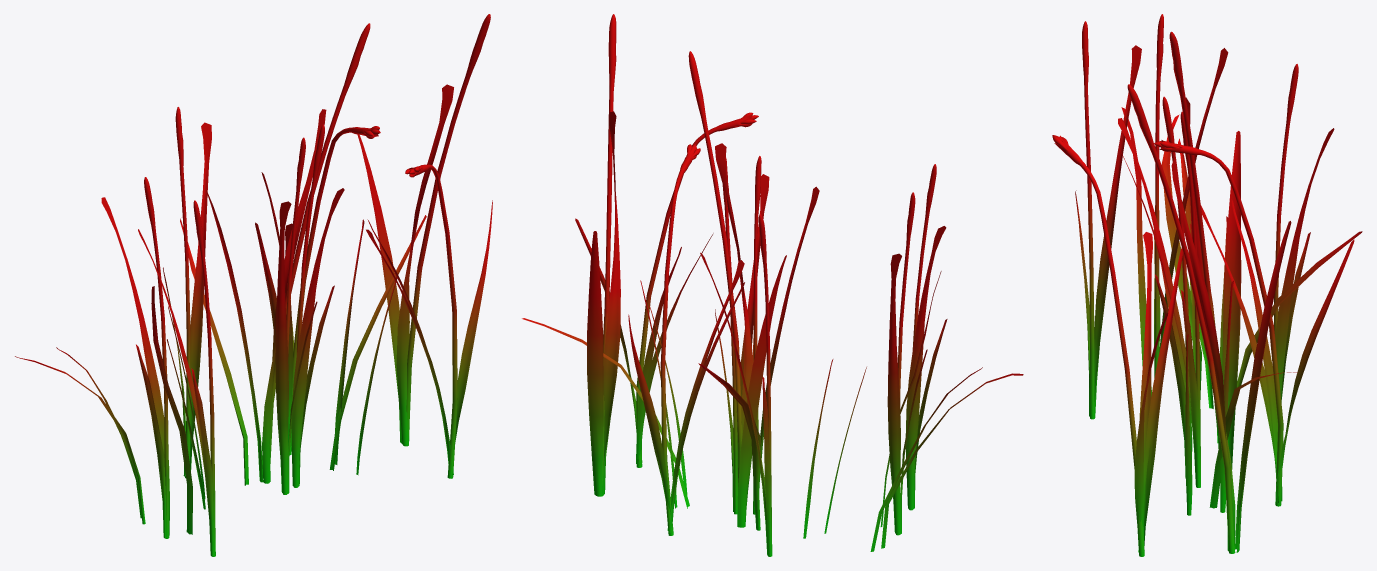
The model's file is Rush Daffodil_LOD1_Var19_wftgfjaia.fbx.
The picture shows the model from 3 angles, left to right: view 1: azimuth 30°, elevation 25°; view 2: azimuth 150°, elevation 25°; view 3: azimuth 270°, elevation 25°; orthographic projection. The views are drawn at different scales.
Visible parts, largest first — view 1: _ptzt_var19_LOD1; view 2: _ptzt_var19_LOD1; view 3: _ptzt_var19_LOD1.
Part boxes in pixels (left/top/right/bottom): _ptzt_var19_LOD1: left=15, top=14, right=492, bottom=556; _ptzt_var19_LOD1: left=522, top=14, right=1023, bottom=556; _ptzt_var19_LOD1: left=1052, top=14, right=1362, bottom=556.
Size of the model in its own units: 34.9 by 32.47 by 18.66.
